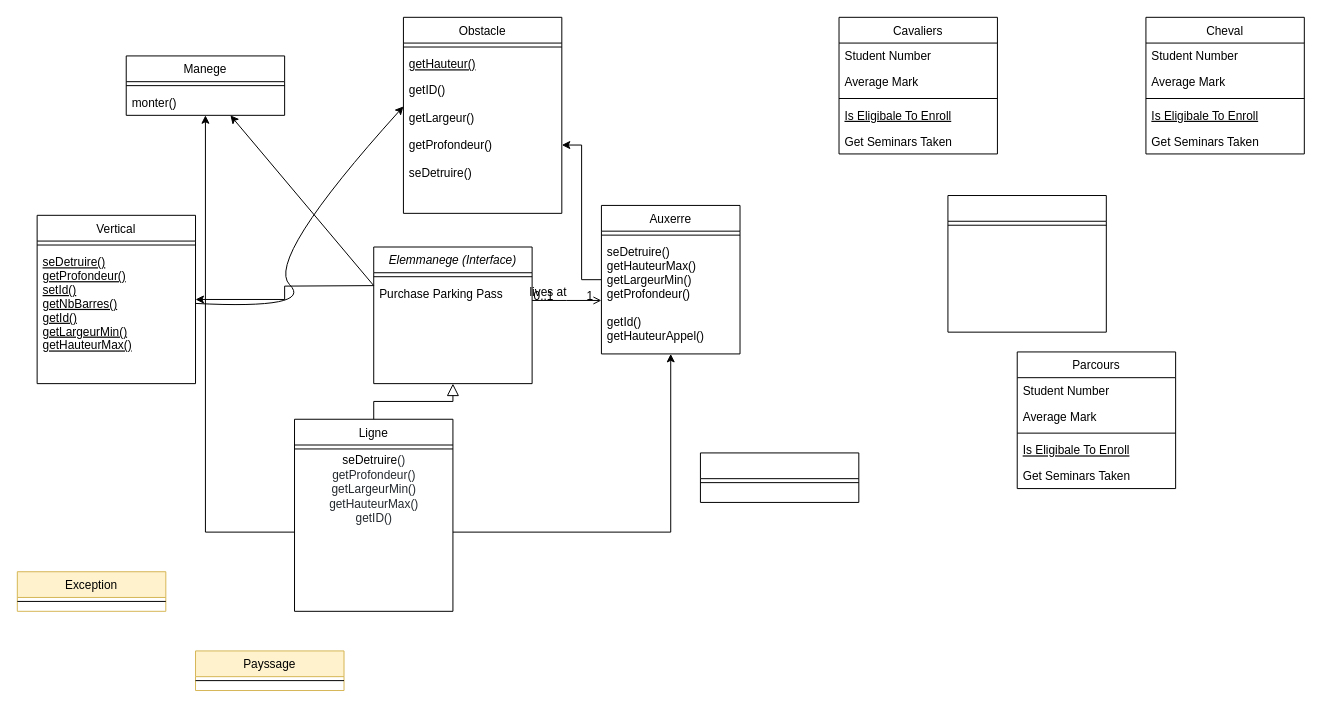
Image size: 1322x708. Some labels were removed from this diagram. The shapes that lost their labels are listed below. From the top down, each one's centre as x and y in pixels, then its label:
the point at 1026,263: Paire
the point at 779,477: Classement
